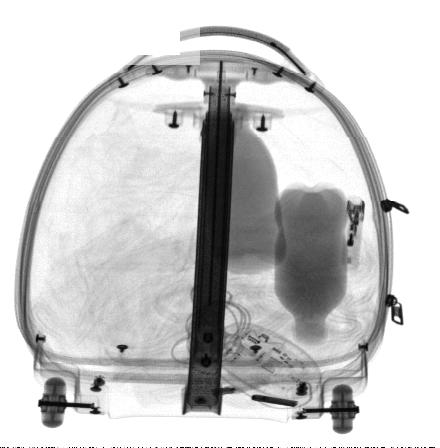Lighter: (340, 194, 365, 272)
